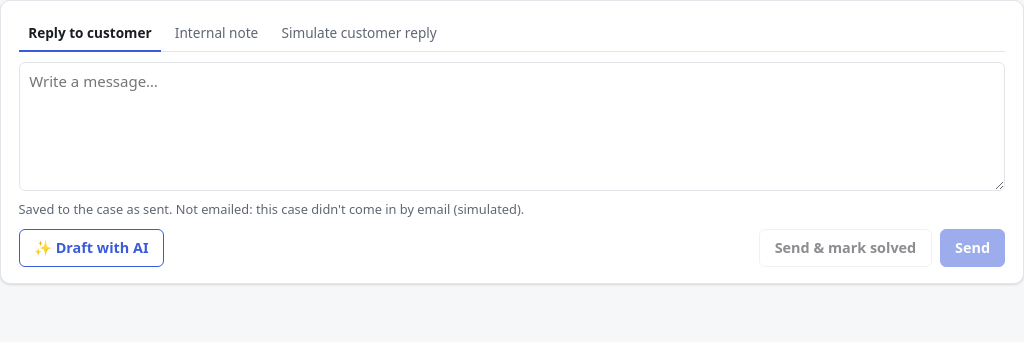
it: ReplyComposer › shows the backend's error message and keeps the text
This screenshot has width=1024, height=342.
Type "Hello" into the text box labelled "message" at (512, 126), box [19, 62, 1005, 191]
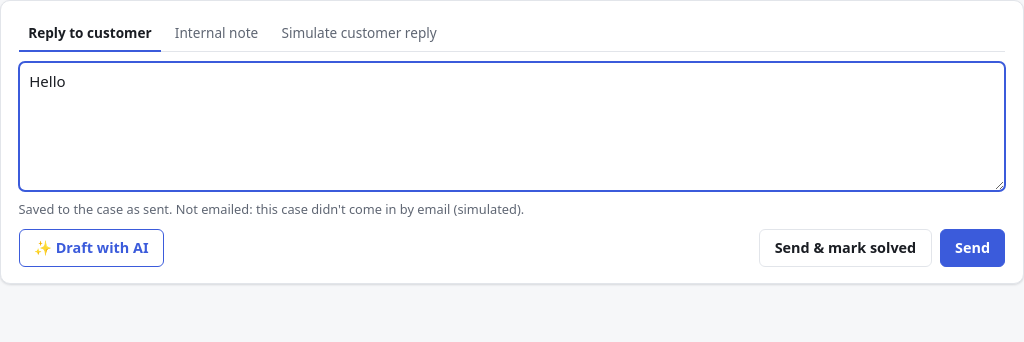
Click the button "Send" at (972, 248), box [940, 229, 1005, 267]
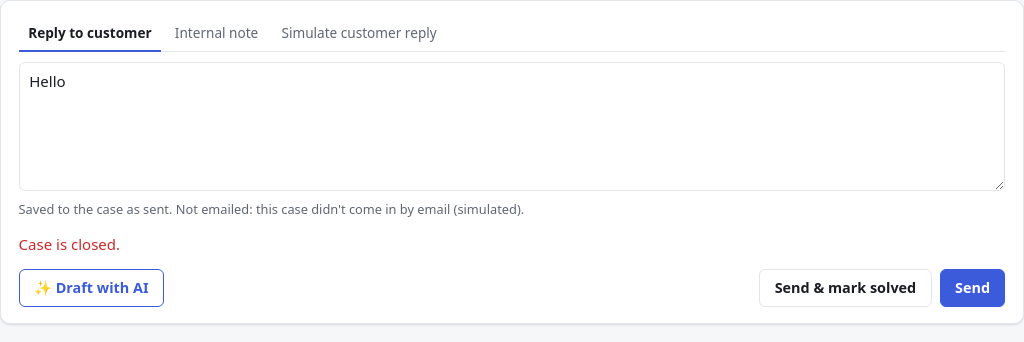
Expected: the message reads "Case is closed.", [19, 234, 120, 254]
